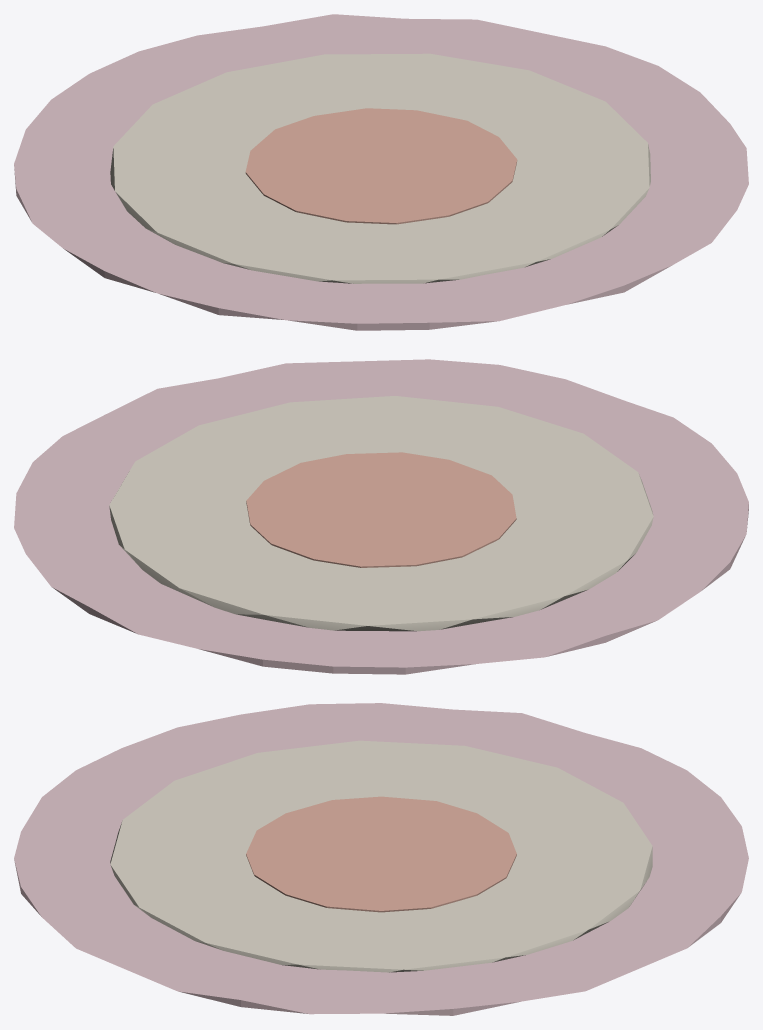
File: furn_rug_round__pink_low.glb
3 views of the same model, one above another, from view 1: azimuth 30°, elevation 25°; view 2: azimuth 150°, elevation 25°; view 3: azimuth 270°, elevation 25° (orthographic).
Bounding box in the file's own units: 1.9 × 0.028 × 1.9.
